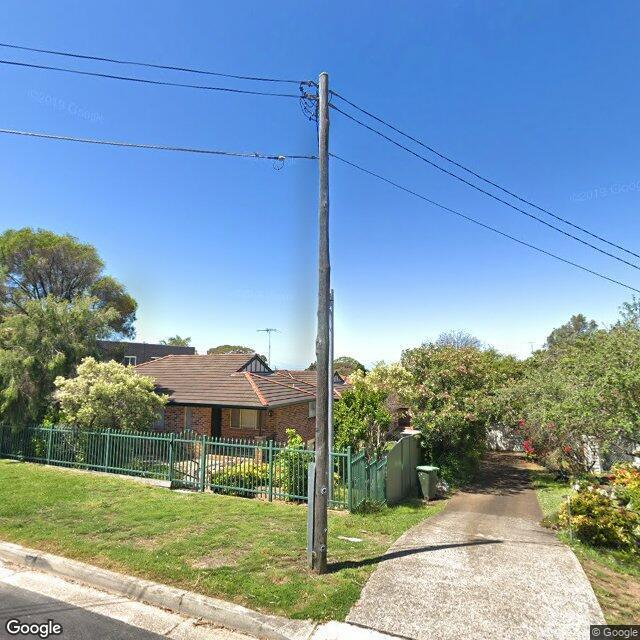crossarm: (255, 329, 279, 332)
timber-pole: (307, 72, 334, 575), (268, 327, 271, 369)
